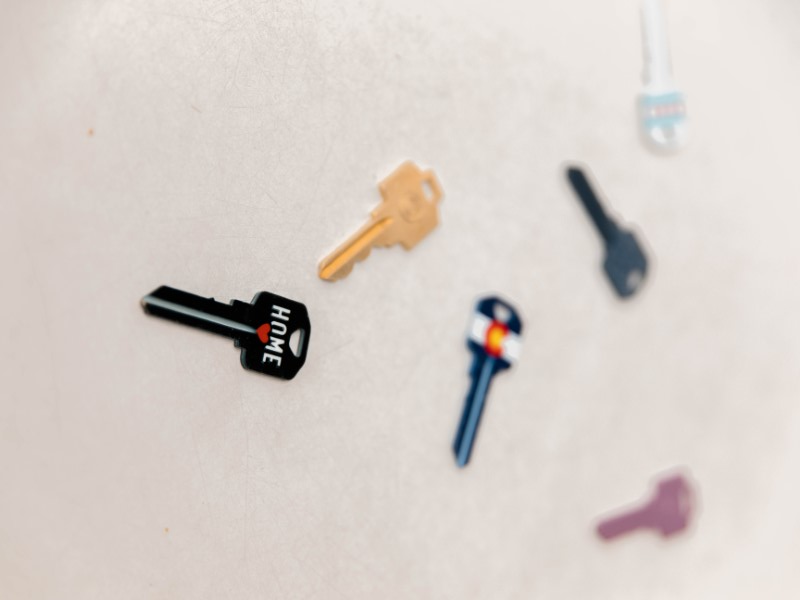key: (132, 279, 316, 386), (318, 156, 443, 287), (558, 156, 656, 304), (445, 294, 523, 473), (591, 461, 709, 550)
